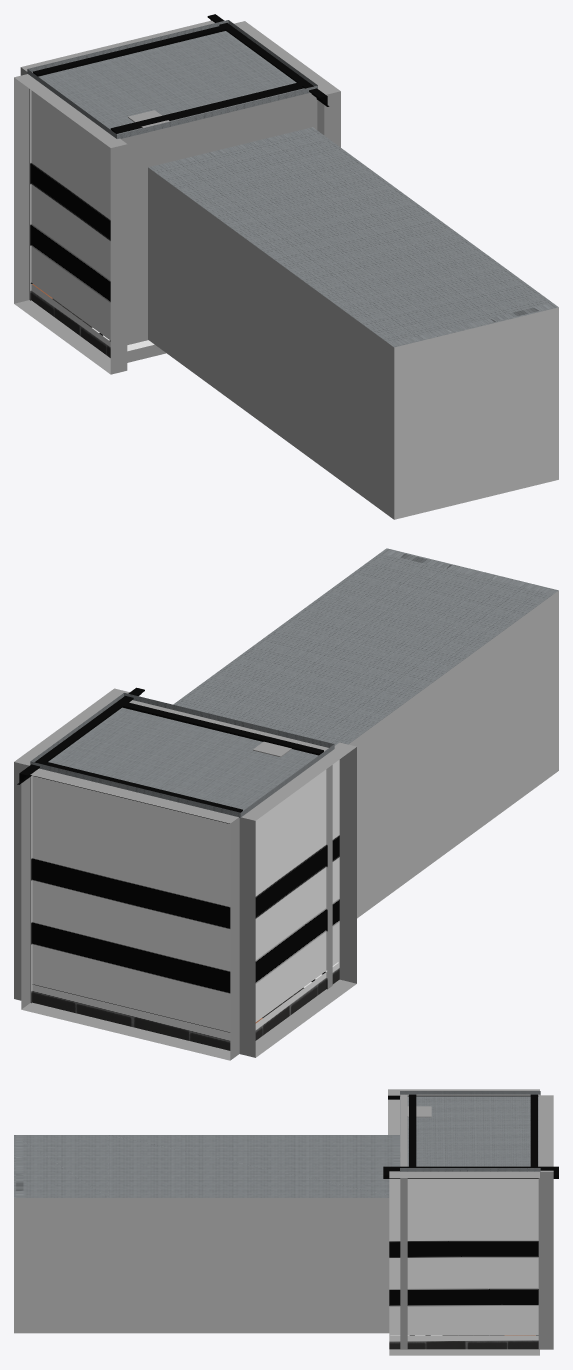
The model's file is kitchen06_03.fbx.
The picture shows the model from 3 angles, top to bottom: view 1: azimuth 30°, elevation 25°; view 2: azimuth 150°, elevation 25°; view 3: azimuth 270°, elevation 25°; orthographic projection. The views are drawn at different scales.
Parts seen in each view (by area): view 1: pCube196, pCube6, pCube12, pCube4, pCube5, polySurface123, pCube3, polySurface126, polySurface127; view 2: pCube196, pCube3, pCube6, pCube12, pCube5, pCube4, polySurface123, polySurface127, polySurface126; view 3: pCube196, pCube5, pCube12, pCube3, pCube4, pCube6, polySurface127, polySurface123, polySurface126.
Part boxes in pixels (x1,y1,x2,y2): pCube196: (148,127,558,519); pCube6: (14,74,127,374); pCube12: (27,20,317,138); pCube4: (121,93,317,362); pCube5: (234,21,340,147); polySurface123: (110,81,308,133); pCube3: (20,20,214,300); polySurface126: (33,24,231,76); polySurface127: (207,14,329,106); pCube196: (173,548,558,918); pCube3: (21,768,239,1060); pCube6: (239,742,356,1057); pCube12: (30,693,334,818); pCube5: (14,688,129,1003); pCube4: (129,700,332,989); polySurface123: (116,700,323,755); polySurface127: (17,687,144,784); polySurface126: (34,760,242,823); pCube196: (14,1135,399,1333); pCube5: (389,1171,539,1355); pCube12: (400,1091,540,1171); pCube3: (538,1095,553,1349); pCube4: (400,1095,407,1349); pCube6: (388,1089,539,1134); polySurface127: (383,1166,558,1178); polySurface123: (409,1094,416,1167); polySurface126: (530,1094,537,1167).
Bounding box in the file's own units: 13.87 × 13.27 × 36.13.
